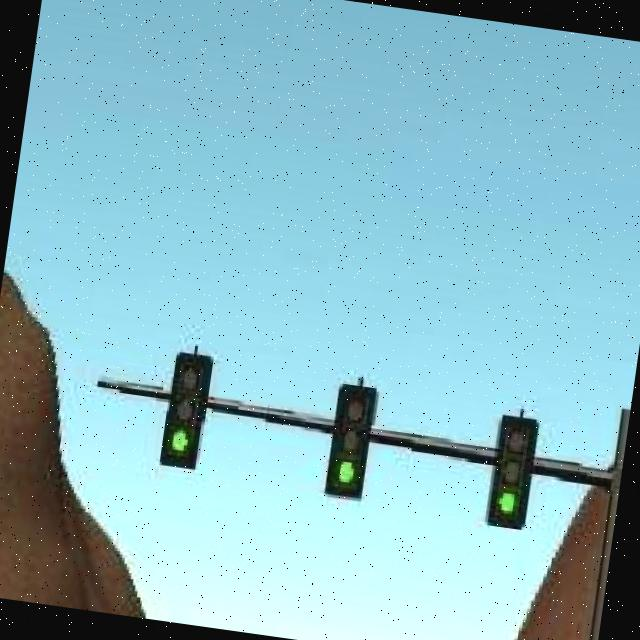Zielone swiatlo: (482, 412, 544, 534), (158, 348, 218, 468), (322, 378, 378, 499)
